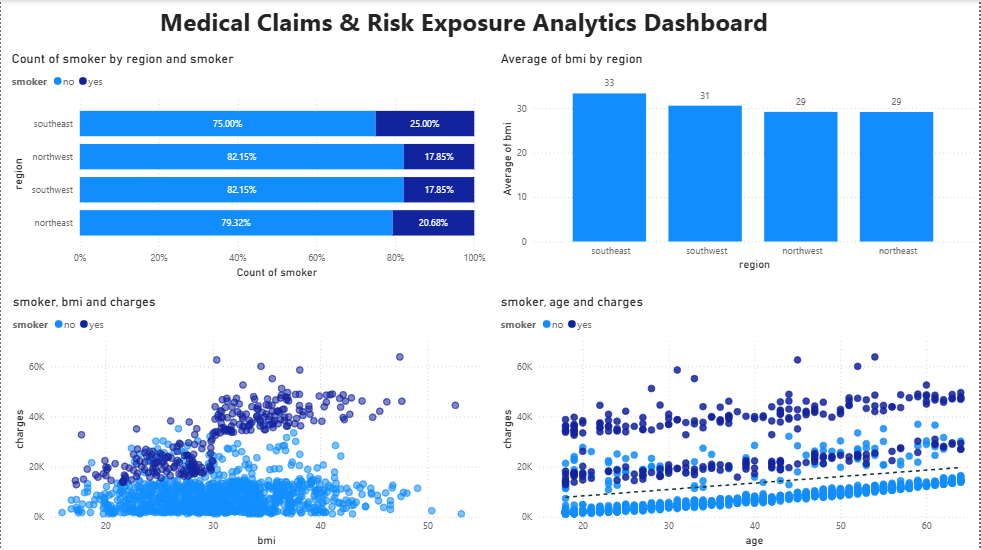

The page's visual inventory and layout, read from the dashboard file:
{"tool":"powerbi","page":{"name":"Dashboard","canvas":[1280,720],"ordinal":0},"visuals":[{"type":"scatterChart","fields":{"X":["insurance.age"],"Y":["insurance.charges"],"Series":["insurance.smoker"]},"box":[649.5,385,630.4,335],"z":0},{"type":"scatterChart","fields":{"X":["insurance.bmi"],"Y":["insurance.charges"],"Series":["insurance.smoker"]},"box":[10.3,385,630.4,335],"z":1000},{"type":"clusteredColumnChart","fields":{"Category":["insurance.region"],"Y":["Avg(insurance.bmi)"]},"box":[649.5,66.1,630.4,292.4],"z":2000},{"type":"hundredPercentStackedBarChart","fields":{"Category":["insurance.region"],"Y":["CountNonNull(insurance.smoker)"],"Series":["insurance.smoker"]},"box":[8.8,66.1,630.4,302.7],"z":3000},{"type":"textbox","box":[202.8,0,821.4,66.1],"z":4000}]}

Visuals, with their boxes in screenshot pixels (x1, y1, x2, y2), scaled from the page's 1280x720 canvas onto the 981x550 screenshot:
scatterChart - insurance.age x insurance.charges: {"left": 498, "top": 294, "right": 980, "bottom": 549}
scatterChart - insurance.bmi x insurance.charges: {"left": 8, "top": 294, "right": 491, "bottom": 549}
clusteredColumnChart - insurance.region x Avg(insurance.bmi): {"left": 498, "top": 50, "right": 980, "bottom": 274}
hundredPercentStackedBarChart - insurance.region x CountNonNull(insurance.smoker): {"left": 7, "top": 50, "right": 490, "bottom": 282}
textbox: {"left": 155, "top": 0, "right": 785, "bottom": 50}
